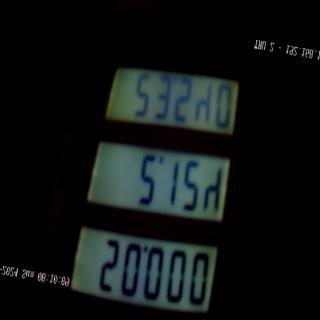screen: (61, 20, 261, 320)
